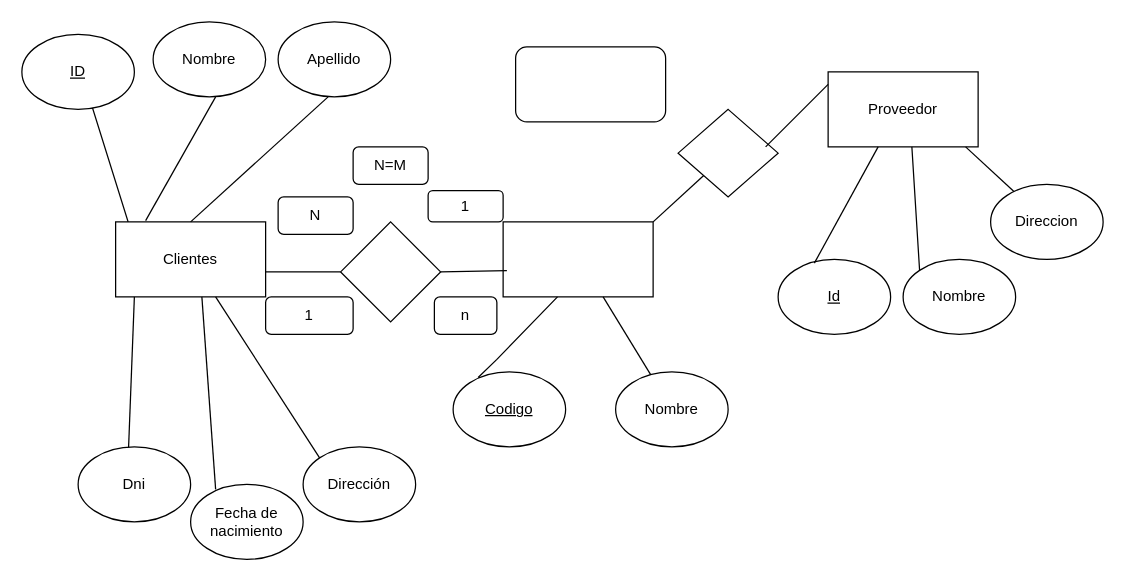
Some shapes in this 1125 by 581 pixel diagram are drawn without their labels. Each missing label, with the centre of its shape:
"Compra" belongs at point 390,271.
"Producto" belongs at point 577,259.
"Producto eliminado" belongs at point 590,84.
"Vende" belongs at point 727,152.
